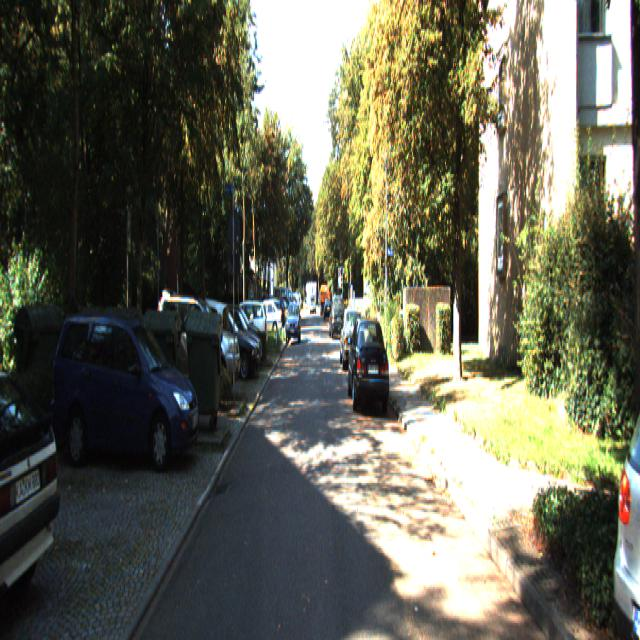Car: (51, 309, 201, 479), (0, 348, 64, 638), (153, 283, 241, 408), (192, 298, 260, 381), (346, 316, 391, 416), (339, 310, 366, 371), (329, 296, 345, 342), (285, 304, 301, 345)
